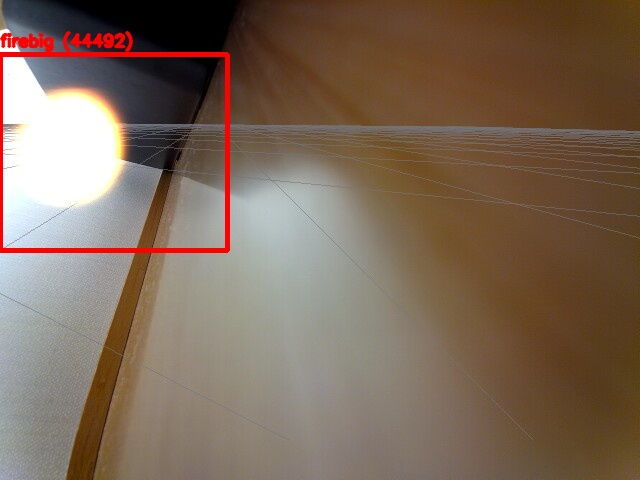firebig: (0, 54, 227, 250)
